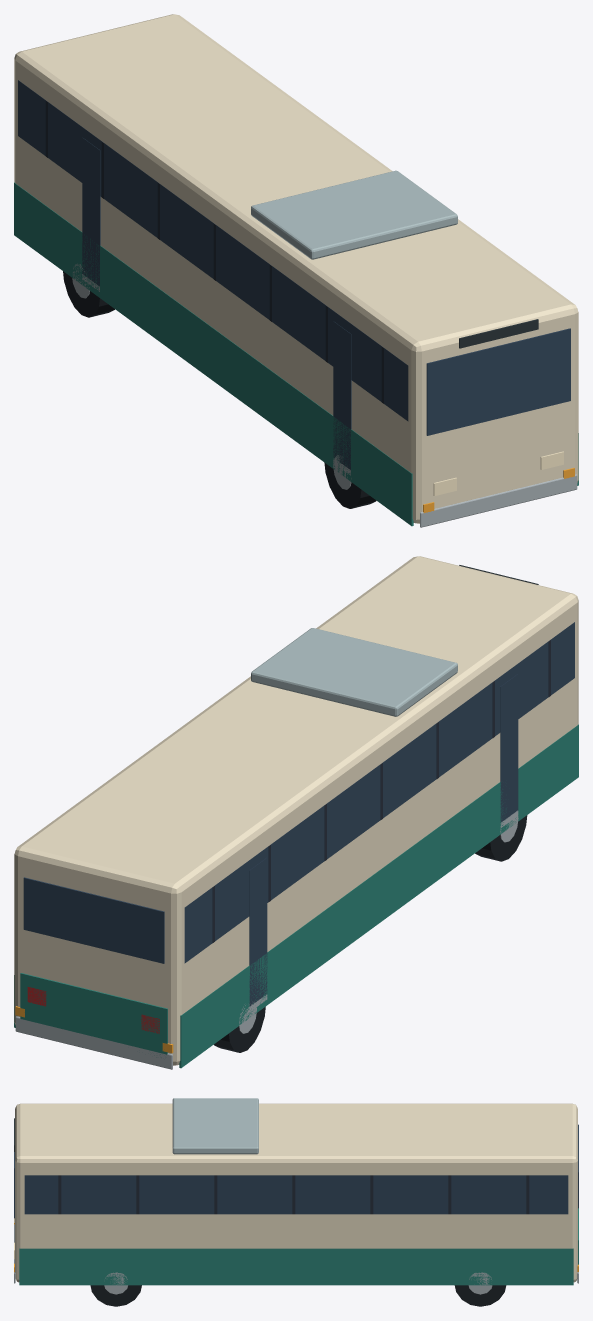
Rendered from npc_city_bus.glb.
The picture shows the model from 3 angles, top to bottom: view 1: azimuth 30°, elevation 25°; view 2: azimuth 150°, elevation 25°; view 3: azimuth 270°, elevation 25°; orthographic projection. The views are drawn at different scales.
Visible parts, largest first — view 1: body, teal_skirt_R, window_band_R, roof_ac, front_windshield, passenger_door_1, passenger_door_0, front_bumper, wheel_F_R_tire, wheel_R_R_tire, route_display; view 2: body, teal_skirt_R, window_band_R, roof_ac, rear_window, rear_skirt, passenger_door_0, passenger_door_1, rear_bumper, wheel_F_R_tire, wheel_R_R_tire; view 3: body, window_band_L, teal_skirt_L, roof_ac, wheel_R_L_tire, wheel_F_L_tire, wheel_R_L_hub, wheel_F_L_hub.
Part boxes in pixels (x1,y1,x2,y2): body: [14, 14, 578, 523]; teal_skirt_R: [14, 182, 413, 526]; window_band_R: [18, 80, 408, 421]; roof_ac: [251, 170, 457, 259]; front_windshield: [426, 328, 570, 435]; passenger_door_1: [82, 137, 100, 286]; passenger_door_0: [333, 321, 351, 470]; front_bumper: [420, 474, 577, 527]; wheel_F_R_tire: [324, 462, 376, 508]; wheel_R_R_tire: [63, 271, 114, 317]; route_display: [459, 319, 538, 348]; body: [14, 556, 578, 1065]; teal_skirt_R: [179, 724, 578, 1068]; window_band_R: [184, 622, 574, 963]; roof_ac: [251, 628, 457, 716]; rear_window: [23, 877, 164, 963]; rear_skirt: [20, 973, 167, 1057]; passenger_door_0: [500, 674, 518, 822]; passenger_door_1: [249, 858, 267, 1006]; rear_bumper: [15, 1016, 172, 1069]; wheel_F_R_tire: [475, 815, 527, 861]; wheel_R_R_tire: [214, 1006, 265, 1052]; body: [15, 1103, 577, 1282]; window_band_L: [24, 1175, 568, 1214]; teal_skirt_L: [19, 1248, 573, 1285]; roof_ac: [172, 1098, 258, 1154]; wheel_R_L_tire: [454, 1285, 506, 1306]; wheel_F_L_tire: [90, 1285, 141, 1306]; wheel_R_L_hub: [468, 1272, 492, 1294]; wheel_F_L_hub: [104, 1272, 127, 1294].
Size of the model in its own units: 2.5 by 3.2 by 10.5.
